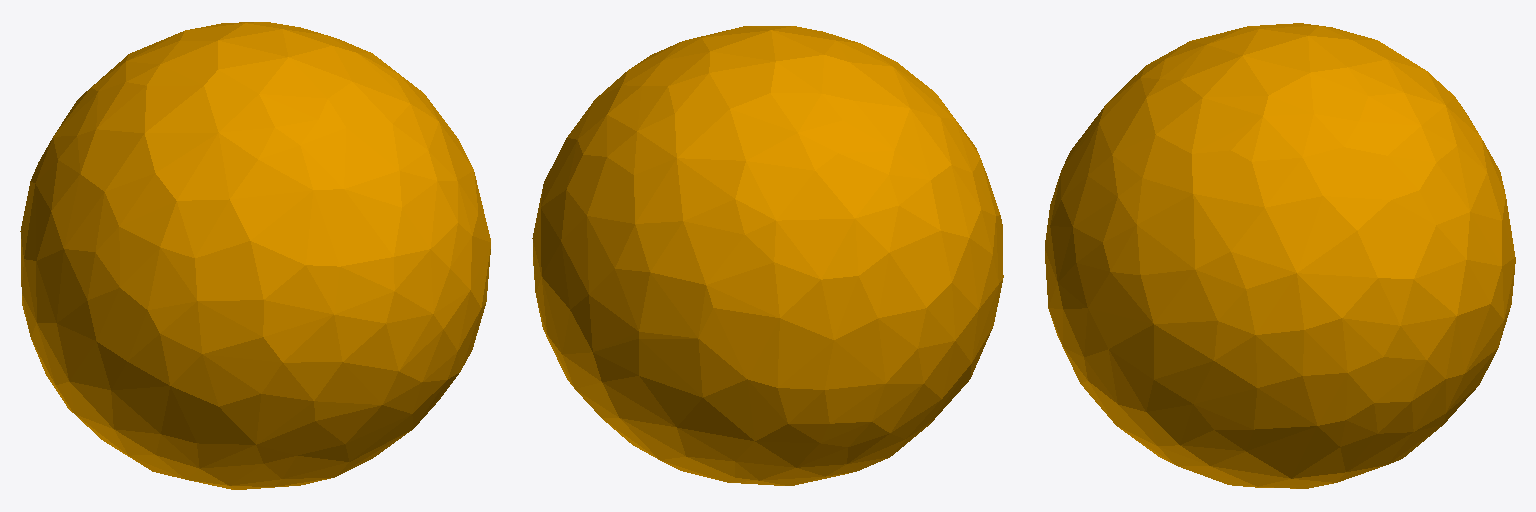
robot.urdf — 063-b_marbles:
<?xml version="1.0" encoding="UTF-8"?>
<robot name="063-b_marbles">
	<link name="base">
		<collision>
			<geometry>
				<mesh filename="..\vhacd\063-b_marbles_vhacd.obj" scale="1.0 1.0 1.0"/>
			</geometry>
			<origin xyz="0 0 0"/>
			<contact_coefficients mu="0.24" />
		</collision>
		<visual>
			<geometry>
				<mesh filename="..\vhacd\063-b_marbles_vhacd.obj" scale="1.0 1.0 1.0"/>
			</geometry>
			<origin xyz="0 0 0"/>
		</visual>
		<inertial>
			<mass value="0"/>
			<inertia ixx="0.0" ixy="-0.0" ixz="-0.0" iyy="0.0" iyz="-0.0" izz="0.0" />
			<origin xyz="-0.009111904267205444 -0.045112331444161116 0.01684513979165347"/>
		</inertial>
	</link>
</robot>

--- What the picture shows (computed from the rendered views, not written in the file) ---
The picture shows the robot from 3 angles, left to right: view 1: azimuth 30°, elevation 25°; view 2: azimuth 150°, elevation 25°; view 3: azimuth 270°, elevation 25°; orthographic projection.
Model 063-b_marbles with 1 links and 0 joints (none), rooted at base, posed every joint at zero.
Links seen in each view (by area): view 1: base; view 2: base; view 3: base.
Boxes of the visible links, x1,y1,x2,y2 form: base: [20, 22, 490, 489]; base: [532, 26, 1003, 485]; base: [1045, 23, 1515, 488].
Size in the robot's own frame: 0.0352 by 0.0352 by 0.0346 metres.
1 mesh visuals loaded from 1 distinct referenced files (1 OBJ).